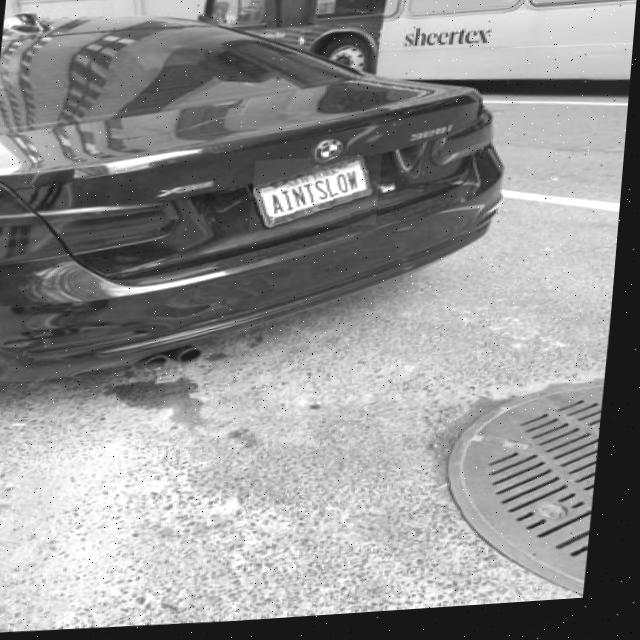LicensePlate: (257, 161, 382, 233)
